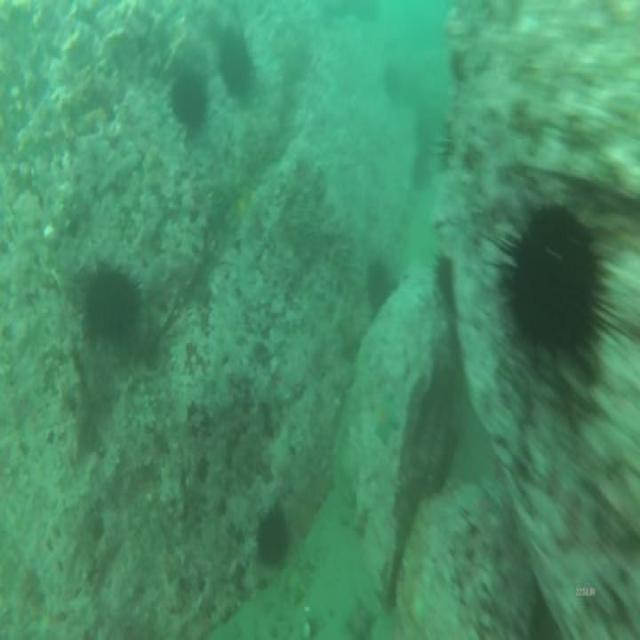echinus: (512, 207, 600, 357), (87, 272, 141, 351), (218, 32, 253, 101), (255, 509, 291, 569), (172, 74, 206, 128), (366, 262, 390, 306)
starfish: (374, 397, 401, 438), (347, 603, 375, 640)
